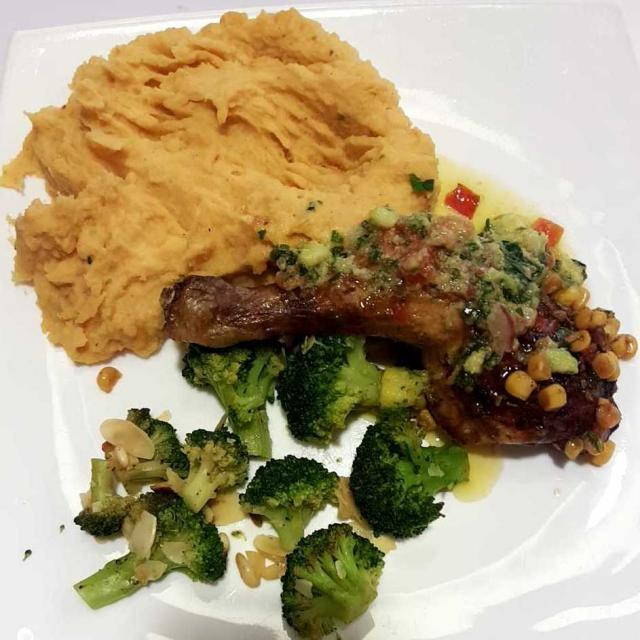broccoli: (83, 341, 485, 634)
chicken: (165, 214, 634, 453)
mixed-vegetables: (306, 211, 624, 429)
sweet-potato: (5, 11, 443, 370)
